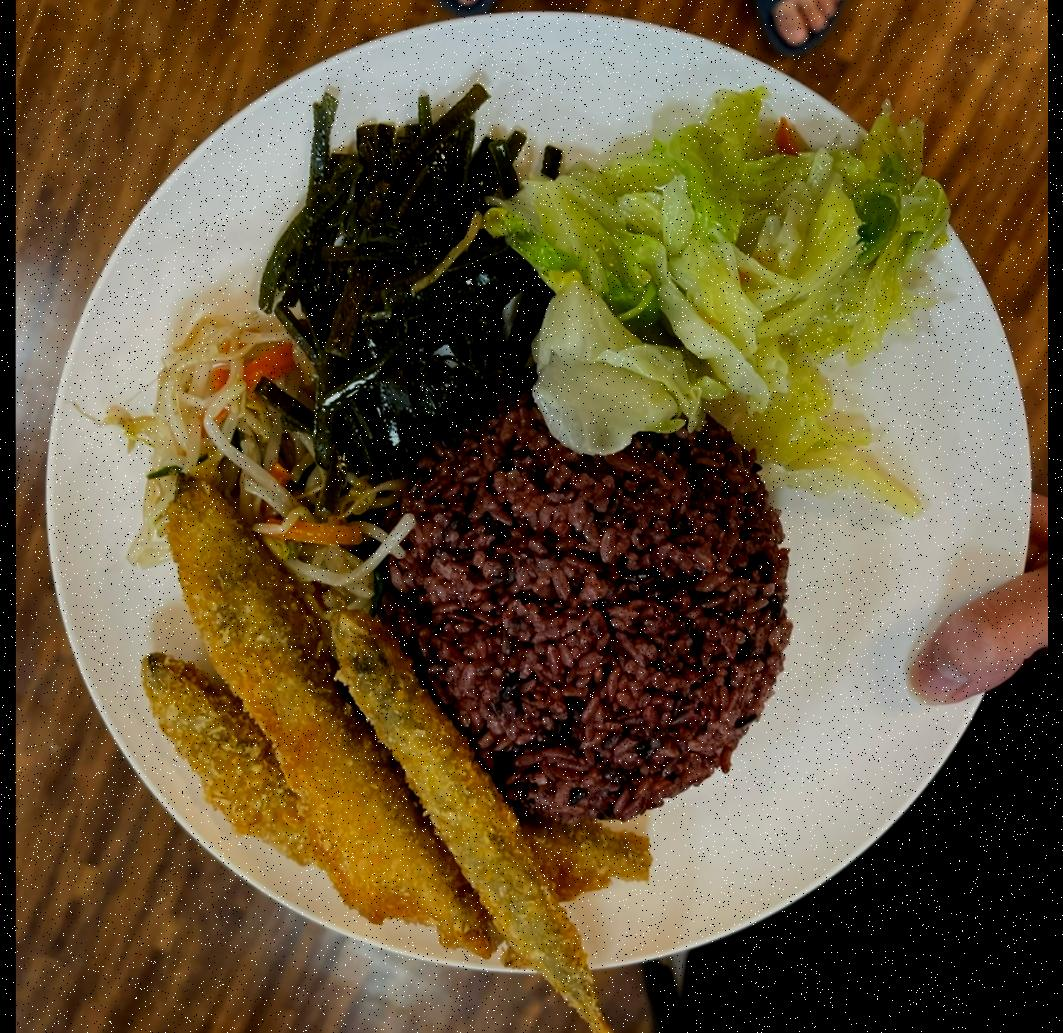big fried chicken leg: (28, 6, 1043, 988)
braised fish: (383, 413, 789, 827)
braised fish fillet: (503, 70, 951, 512), (256, 78, 552, 471), (126, 313, 374, 593)
braised pork: (125, 480, 666, 1032)
